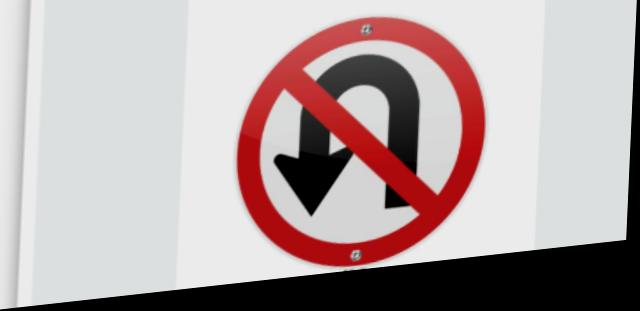not_u_turn_left: (228, 14, 495, 290)
